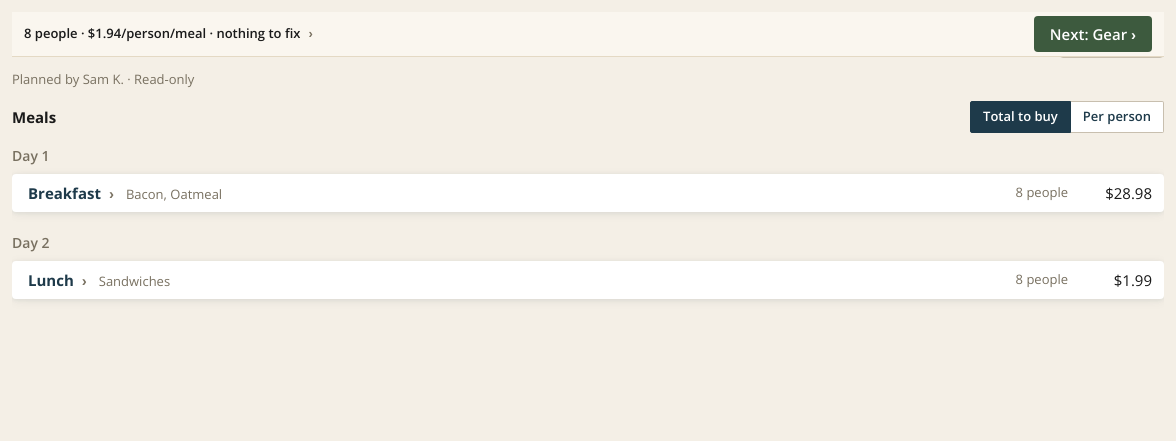
Test case: Plan tab, read-only › Leader_OpensAMeal_Inline_FromItsName
Click the button "Breakfast ›" at (71, 193), box [28,182,114,204]
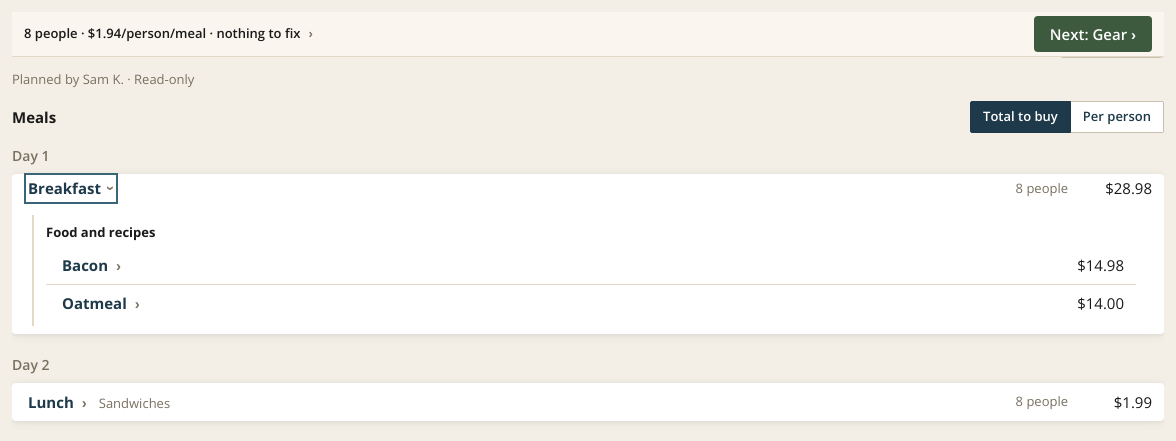
expect the list named "Recipes in Day 1 breakfast" is shown: met, box [46,246,1136,322]
